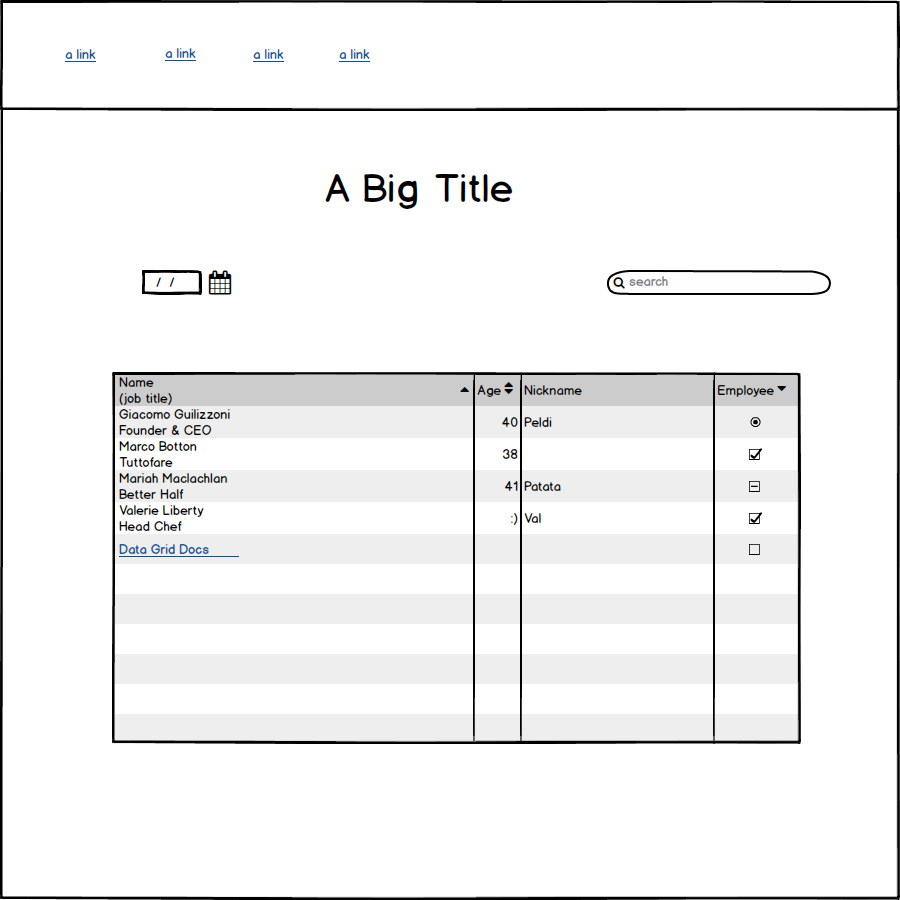date_picker: (135, 263, 252, 303)
h1: (312, 154, 527, 218)
navlink: (152, 37, 211, 71), (246, 38, 293, 70), (333, 40, 372, 77), (57, 40, 107, 67)
search: (598, 262, 841, 299)
table: (97, 367, 826, 756)
